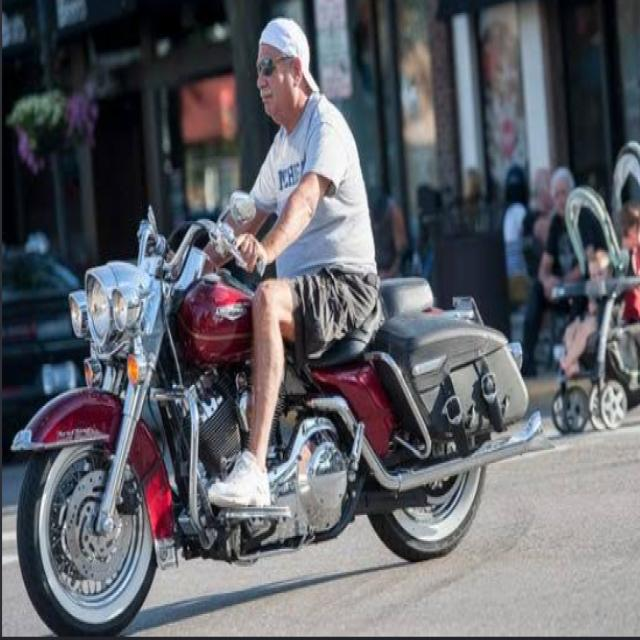WithoutHelmet: (128, 21, 385, 515)
